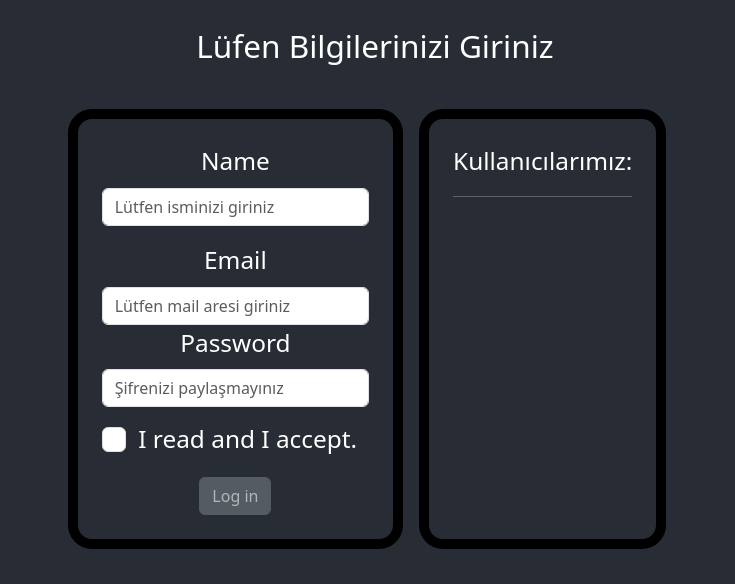
Test: Login Formu Testi › İsim Testi
This screenshot has width=735, height=584.
In the field with id "exampleText": (236, 207) [102, 188, 370, 226], type "aa"
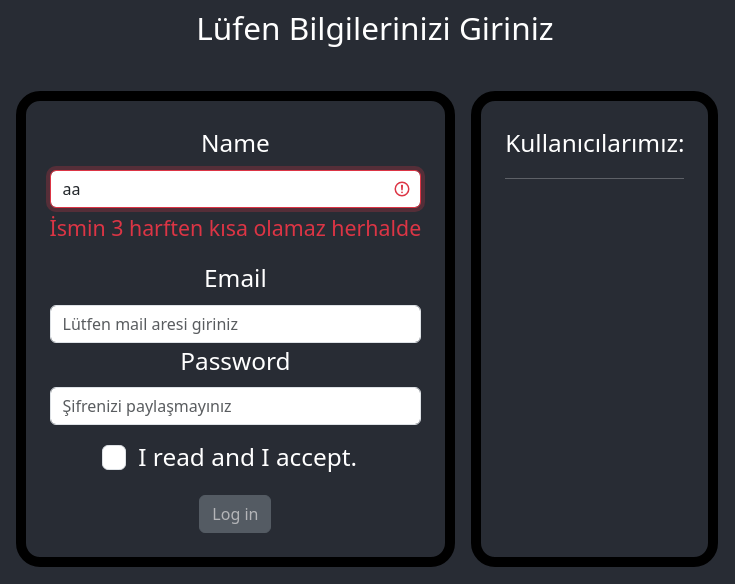
expect the text with class "invalid-feedback" reads "İsmin 3 harften kısa olamaz herhalde": met, box [50, 212, 422, 244]
